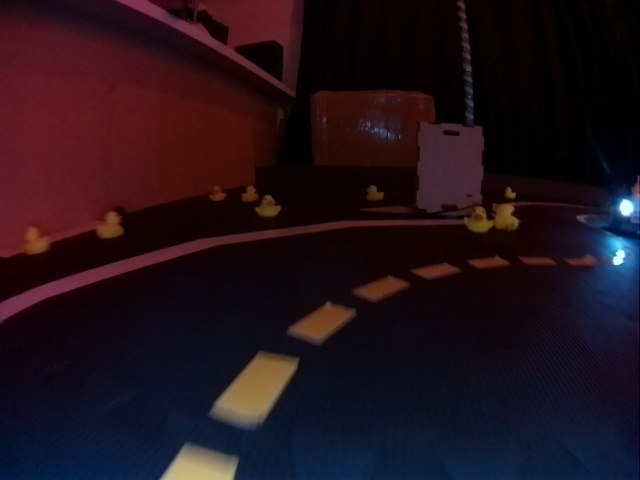Duckie: (25, 227, 50, 254), (95, 217, 125, 237), (464, 211, 489, 234), (255, 197, 280, 218), (495, 203, 516, 227), (240, 185, 258, 203), (366, 184, 385, 201), (210, 186, 226, 201), (505, 186, 516, 199)
